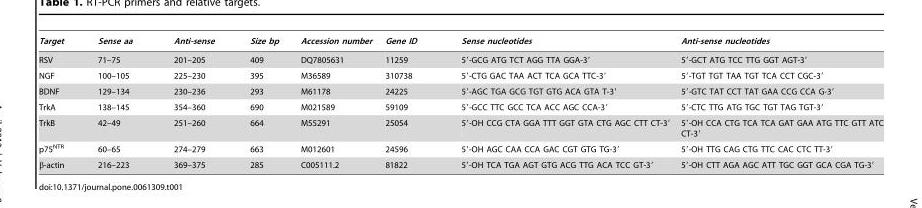table: (38, 36, 884, 169)
table column: (439, 36, 675, 169), (675, 36, 884, 169), (290, 36, 379, 169), (154, 36, 233, 169), (81, 36, 154, 169), (379, 36, 439, 169), (233, 36, 290, 169), (38, 36, 81, 169)
table column header: (38, 36, 884, 50)
table row: (38, 114, 884, 140), (38, 50, 884, 67), (38, 67, 884, 83), (38, 98, 884, 114), (38, 140, 884, 156), (38, 83, 884, 98), (38, 36, 884, 50), (38, 156, 884, 169)
